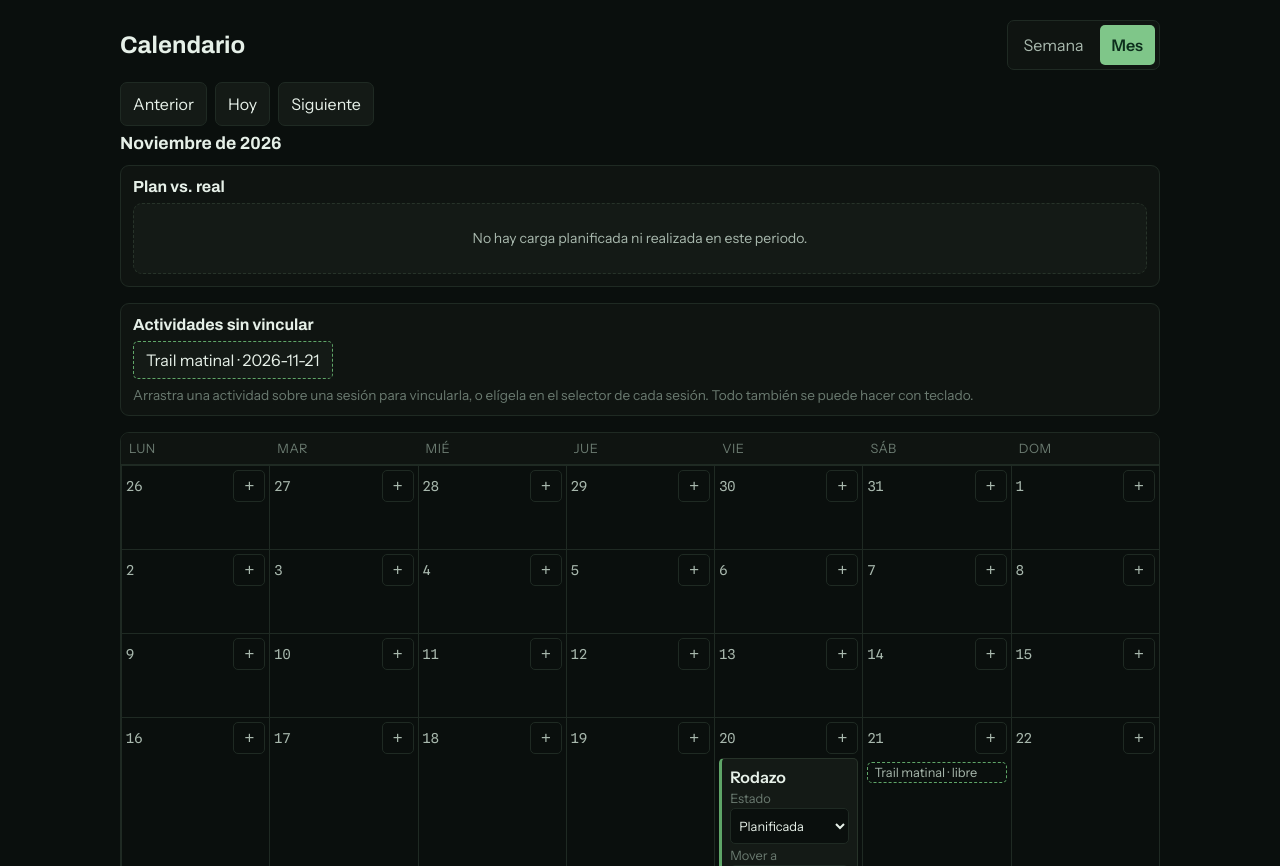
Test case: CalendarContainer › surfaces a mutation error without losing the calendar
Expected: the text "Rodazo" is shown, [730,767,786,787]
Select "Omitida" in the dropdown named "Estado de Rodazo" at (790, 826), box [730,808,849,844]
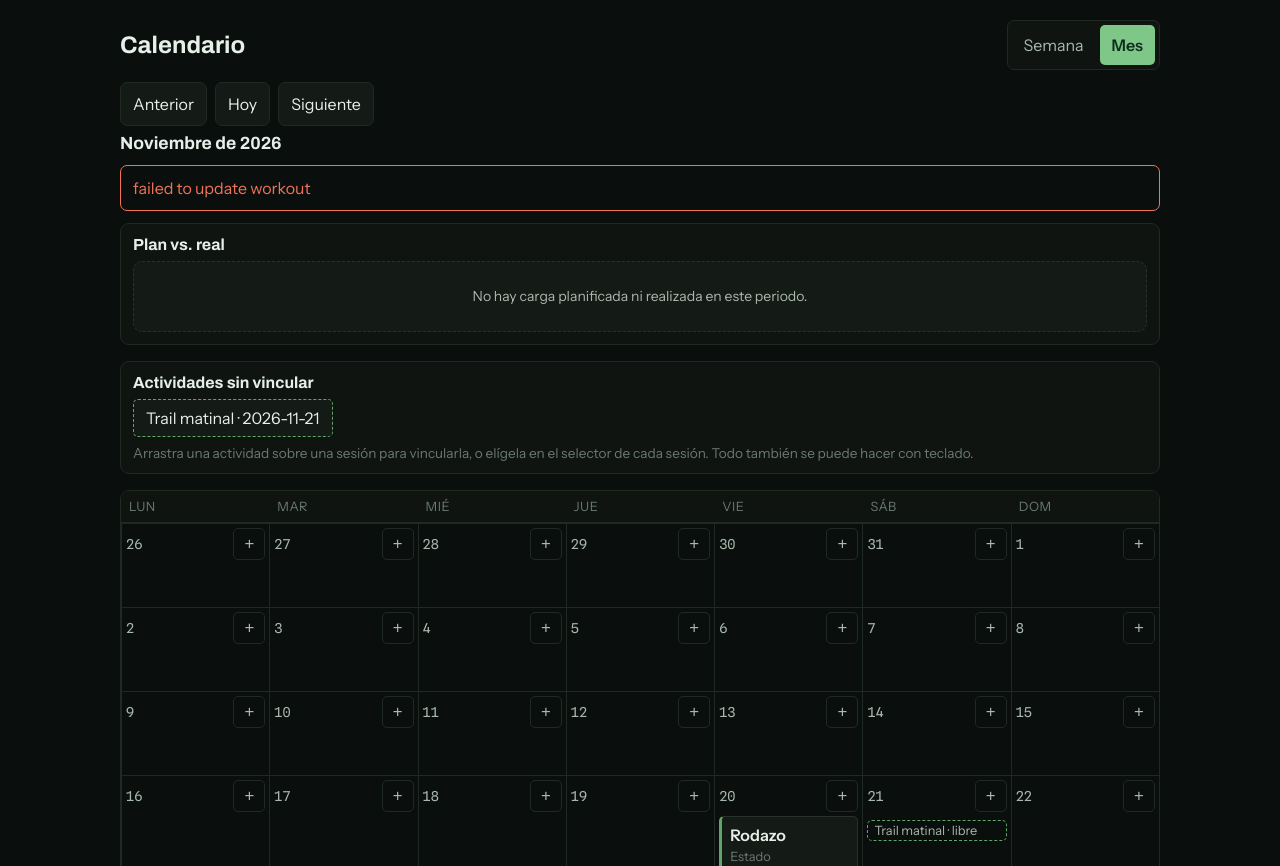
Expected: the text "Rodazo" is shown, [730,825,786,845]
Expected: the message "failed to update workout" is shown, [120,165,1160,211]
